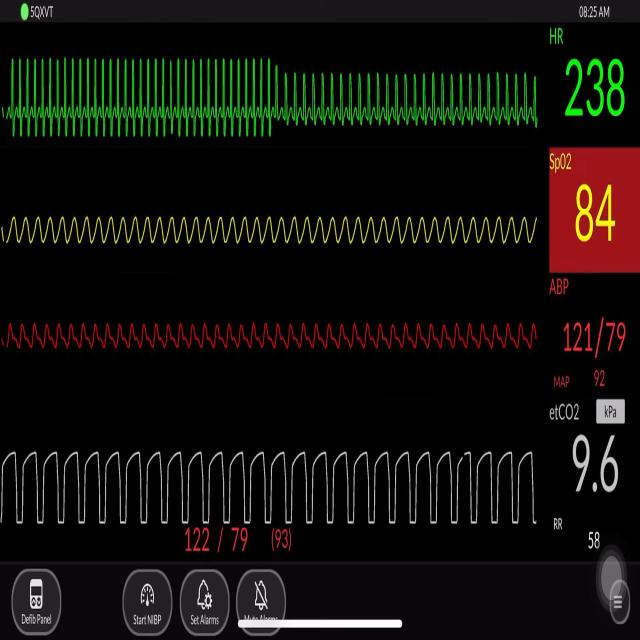danger: (3, 43, 284, 155), (293, 54, 542, 141)
